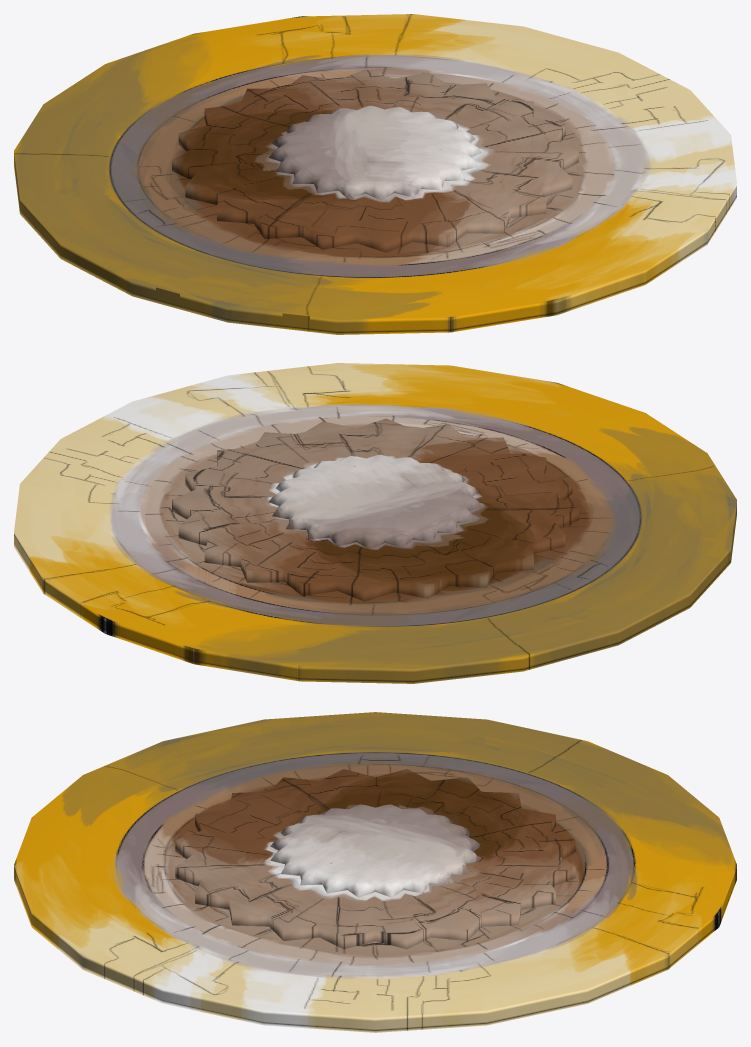
The model's file is templeSwitch.fbx.
3 views of the same model, one above another, from view 1: azimuth 30°, elevation 25°; view 2: azimuth 150°, elevation 25°; view 3: azimuth 270°, elevation 25° (orthographic).
Parts seen in each view (by area): view 1: ground_switch; view 2: ground_switch; view 3: ground_switch.
Part boxes in pixels (x1,y1,x2,y2): ground_switch: (14, 14, 736, 334); ground_switch: (14, 363, 736, 683); ground_switch: (14, 712, 736, 1032).
Size of the model in its own units: 16.59 by 0.9593 by 16.59.
